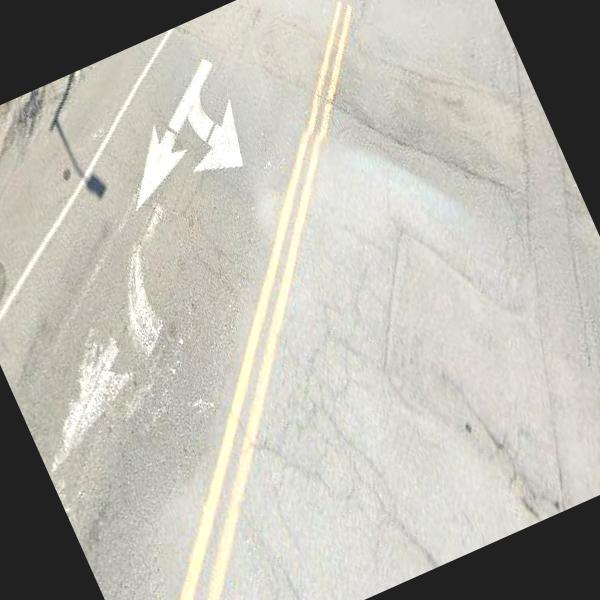manhole: (0, 250, 31, 323)
